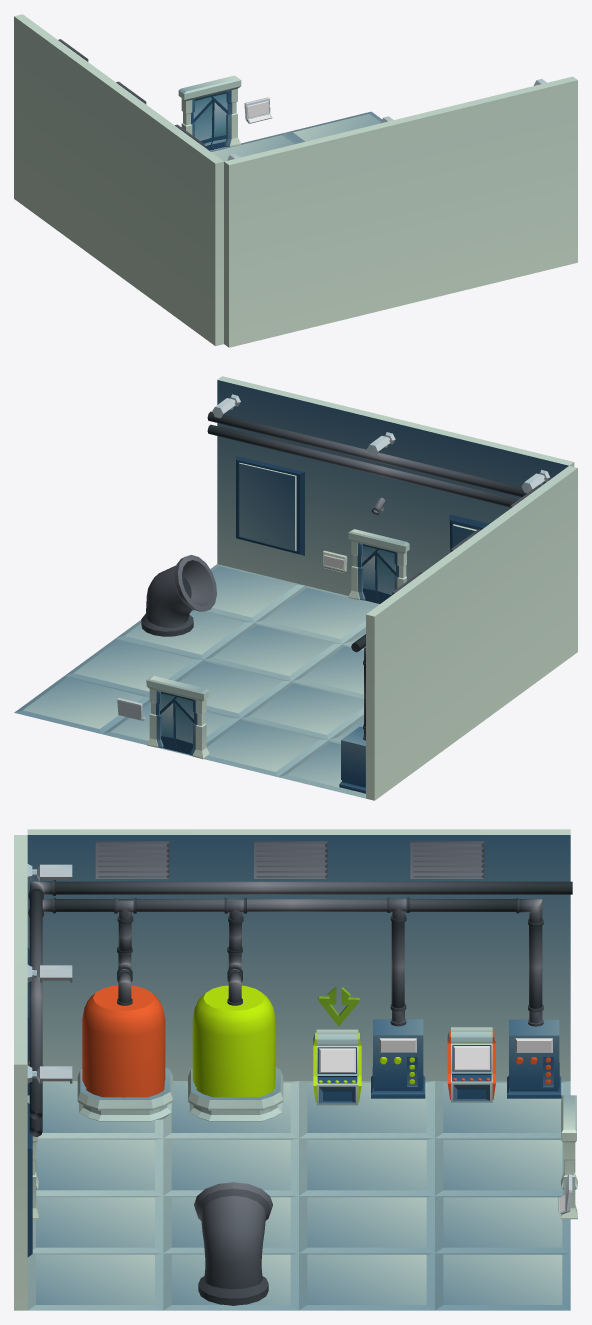
Rendered from Lobby_V1.fbx.
3 views of the same model, one above another, from view 1: azimuth 30°, elevation 25°; view 2: azimuth 150°, elevation 25°; view 3: azimuth 270°, elevation 25° (orthographic). The views are drawn at different scales.
Parts seen in each view (by area): view 1: Parede_Frontal.003, Parede_Frontal.002, Suelo.001, Marco_Puerta.007, Puerta_1.007, Puerta_2.007, Computadora.001; view 2: Suelo.001, Parede_Frontal.002, Parede_Frontal.003, Cube.008, Elbow Joint.025, Cylinder.108, Cylinder.041, Marco_Puerta.007, Marco_Puerta.002, Maquina_1.002, Cylinder.016, Puerta_1.007 (+4 smaller); view 3: Suelo.001, Parede_Frontal.002, Cylinder.022, Cylinder.103, Elbow Joint.025, Cylinder.109, Parede_Frontal.003, Cylinder.102, Maquina_1.003, Maquina_1.002, Maquina_2.005, Maquina_2.006 (+12 smaller).
Boxes of the visible parts, box(x1,y1,x2,y2) form: Parede_Frontal.003: box(224, 76, 577, 347); Parede_Frontal.002: box(14, 14, 223, 345); Suelo.001: box(210, 111, 381, 161); Marco_Puerta.007: box(178, 75, 241, 147); Puerta_1.007: box(193, 95, 213, 150); Puerta_2.007: box(210, 91, 227, 150); Computadora.001: box(244, 97, 272, 123); Suelo.001: box(14, 564, 379, 798); Parede_Frontal.002: box(366, 466, 577, 800); Parede_Frontal.003: box(217, 376, 574, 595); Cube.008: box(236, 456, 304, 555); Elbow Joint.025: box(141, 555, 216, 636); Cylinder.108: box(207, 411, 526, 497); Cylinder.041: box(207, 424, 518, 507); Marco_Puerta.007: box(146, 676, 209, 759); Marco_Puerta.002: box(348, 529, 409, 600); Maquina_1.002: box(339, 726, 365, 793); Cylinder.016: box(212, 394, 550, 493); Puerta_1.007: box(174, 695, 194, 754); Suelo.001: box(27, 1081, 570, 1310); Parede_Frontal.002: box(27, 829, 570, 1080); Cylinder.022: box(192, 985, 275, 1097); Cylinder.103: box(82, 985, 165, 1097); Elbow Joint.025: box(194, 1182, 272, 1305); Cylinder.109: box(56, 881, 572, 894); Parede_Frontal.003: box(14, 835, 27, 1310); Cylinder.102: box(56, 899, 526, 911); Maquina_1.003: box(371, 1019, 425, 1098); Maquina_1.002: box(507, 1019, 561, 1098); Maquina_2.005: box(313, 1029, 361, 1105); Maquina_2.006: box(447, 1027, 495, 1102).
Bounding box in the file's own units: 20.72 × 10.13 × 20.77.
